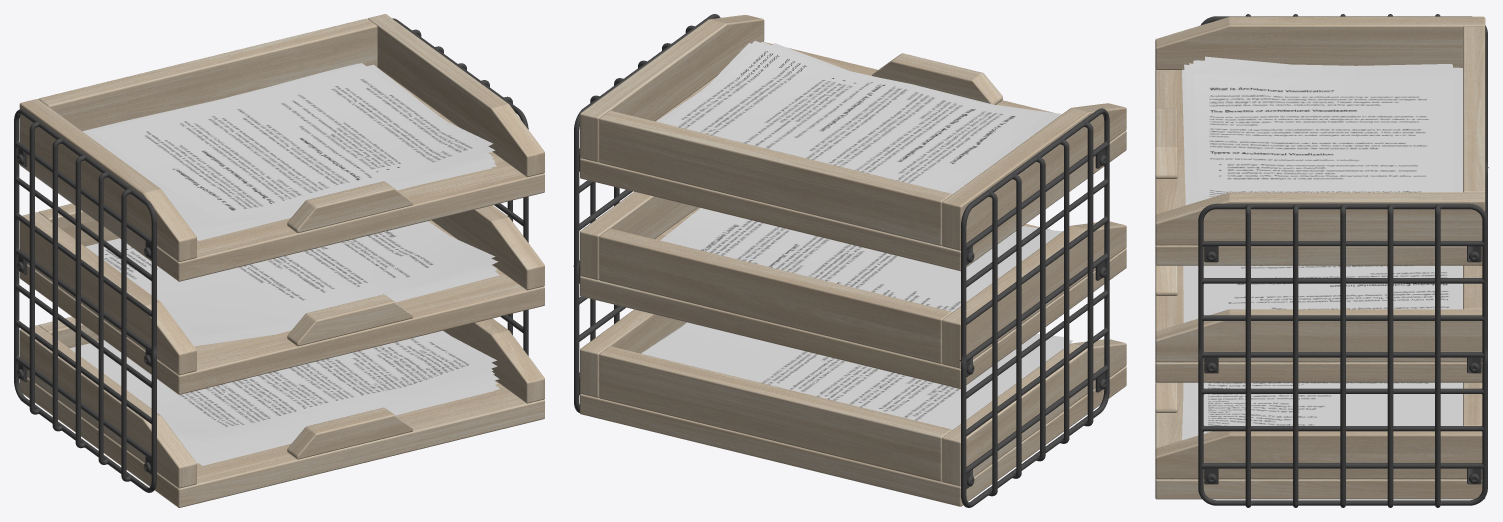
Rendered from office_decor_organiser_paper.glb.
3 renders of one model, left to right at view 1: azimuth 30°, elevation 25°; view 2: azimuth 150°, elevation 25°; view 3: azimuth 270°, elevation 25°, orthographic. The views are drawn at different scales.
Visible parts, largest first — view 1: Office_Decor_Organiser-Paper_02_0_3; view 2: Office_Decor_Organiser-Paper_02_0_3; view 3: Office_Decor_Organiser-Paper_02_0_3.
Part boxes in pixels (x1=…): Office_Decor_Organiser-Paper_02_0_3: x1=14, y1=14, x2=544, y2=507; Office_Decor_Organiser-Paper_02_0_3: x1=573, y1=14, x2=1126, y2=507; Office_Decor_Organiser-Paper_02_0_3: x1=1155, y1=14, x2=1488, y2=507.
Size of the model in its own units: 0.3771 by 0.2705 by 0.2694.
6 materials, 5 textured.
